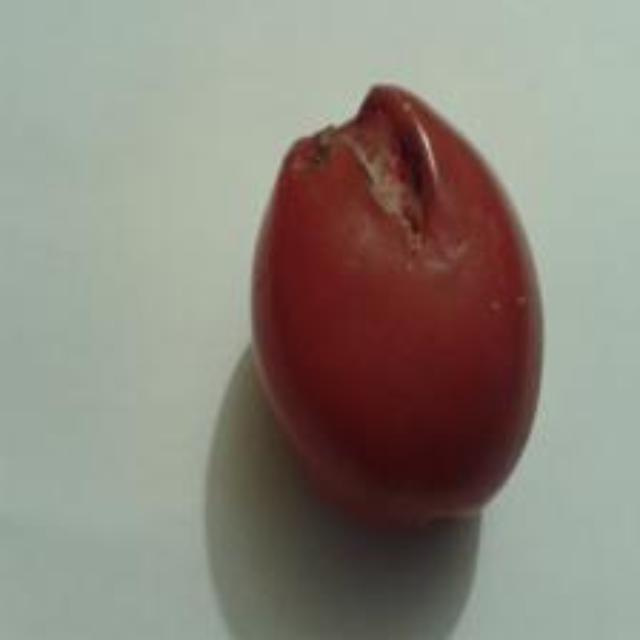defect: (244, 81, 551, 537)
